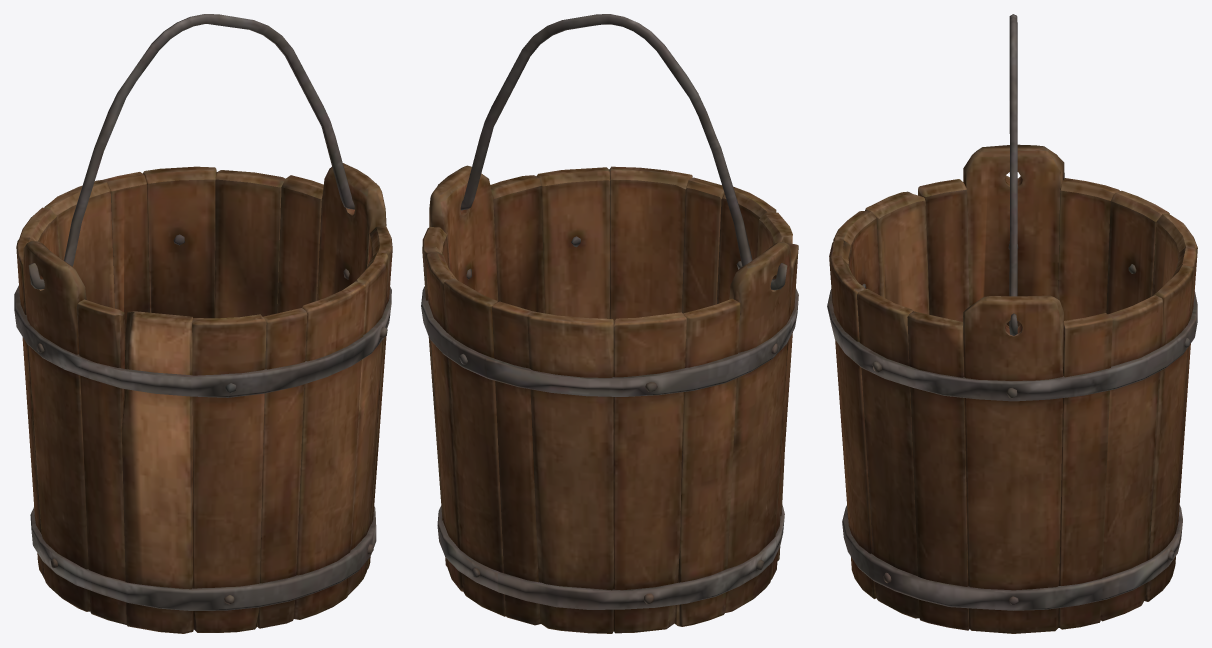
The model's file is wooden_bucket_01.glb.
3 views of the same model, side by side, from view 1: azimuth 30°, elevation 25°; view 2: azimuth 150°, elevation 25°; view 3: azimuth 270°, elevation 25° (orthographic).
Parts seen in each view (by area): view 1: wooden_bucket_01; view 2: wooden_bucket_01; view 3: wooden_bucket_01.
Part boxes in pixels (x1=…): wooden_bucket_01: x1=14, y1=14, x2=392, y2=633; wooden_bucket_01: x1=421, y1=14, x2=798, y2=633; wooden_bucket_01: x1=827, y1=14, x2=1197, y2=633.
Bounding box in the file's own units: 0.3663 × 0.5499 × 0.3419.
Materials: 1 (1 with a texture image).
